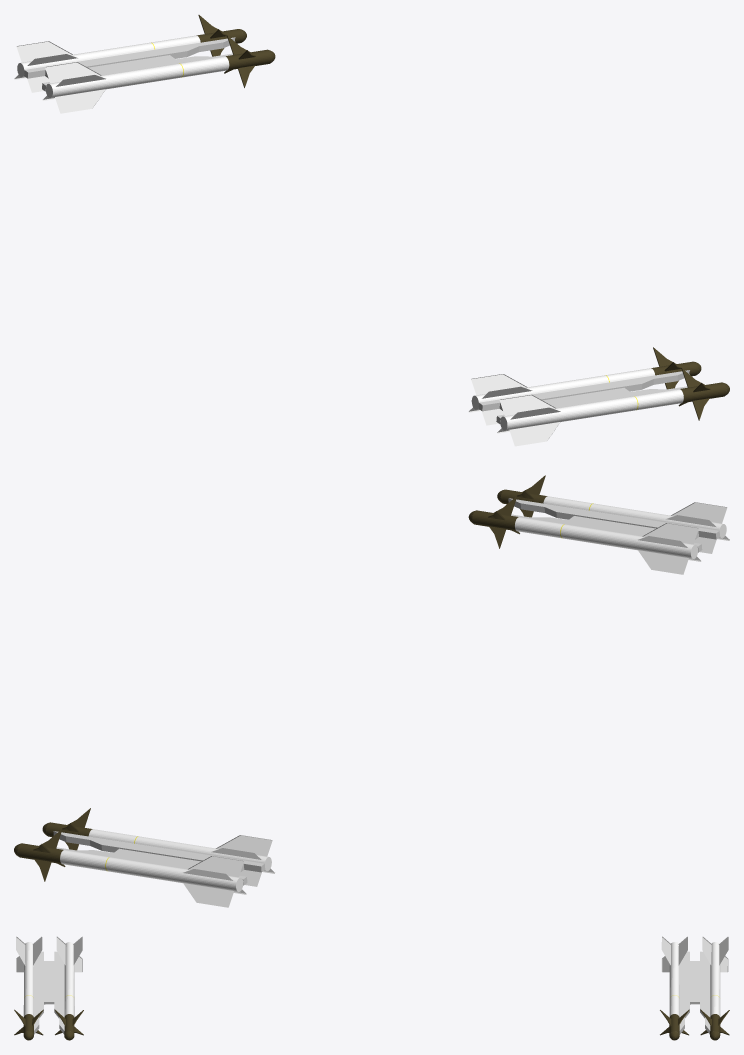
Rendered from a10caim12012.glb.
3 views of the same model, one above another, from view 1: azimuth 30°, elevation 25°; view 2: azimuth 150°, elevation 25°; view 3: azimuth 270°, elevation 25° (orthographic). The views are drawn at different scales.
Parts seen in each view (by area): view 1: 円柱.007, 円柱.003, 円柱.006, 円柱.009, 立方体.006, 立方体.005; view 2: 円柱.006, 円柱.009, 円柱.007, 円柱.003, 立方体.006, 立方体.005; view 3: 立方体.006, 立方体.005, 円柱.009, 円柱.003, 円柱.006, 円柱.007.
Boxes of the visible parts, box(x1,y1,x2,y2) form: 円柱.007: box(497, 368, 729, 446); 円柱.003: box(42, 35, 275, 113); 円柱.006: box(14, 15, 246, 92); 円柱.009: box(468, 347, 701, 425); 立方体.006: box(24, 37, 235, 91); 立方体.005: box(478, 370, 689, 424); 円柱.006: box(14, 829, 246, 907); 円柱.009: box(468, 496, 701, 574); 円柱.007: box(497, 475, 729, 553); 円柱.003: box(42, 808, 274, 886); 立方体.006: box(53, 831, 265, 885); 立方体.005: box(508, 498, 719, 552); 立方体.006: box(679, 951, 710, 1034); 立方体.005: box(34, 951, 64, 1034); 円柱.009: box(54, 936, 83, 1040); 円柱.003: box(660, 936, 689, 1040); 円柱.006: box(700, 937, 729, 1040); 円柱.007: box(14, 936, 43, 1040).
Bounding box in the file's own units: 3.38 × 0.7374 × 13.06.
Materials: 7 (2 with a texture image).
